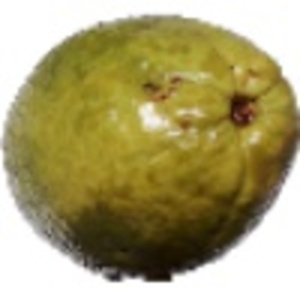goiaba: (7, 13, 297, 273)
